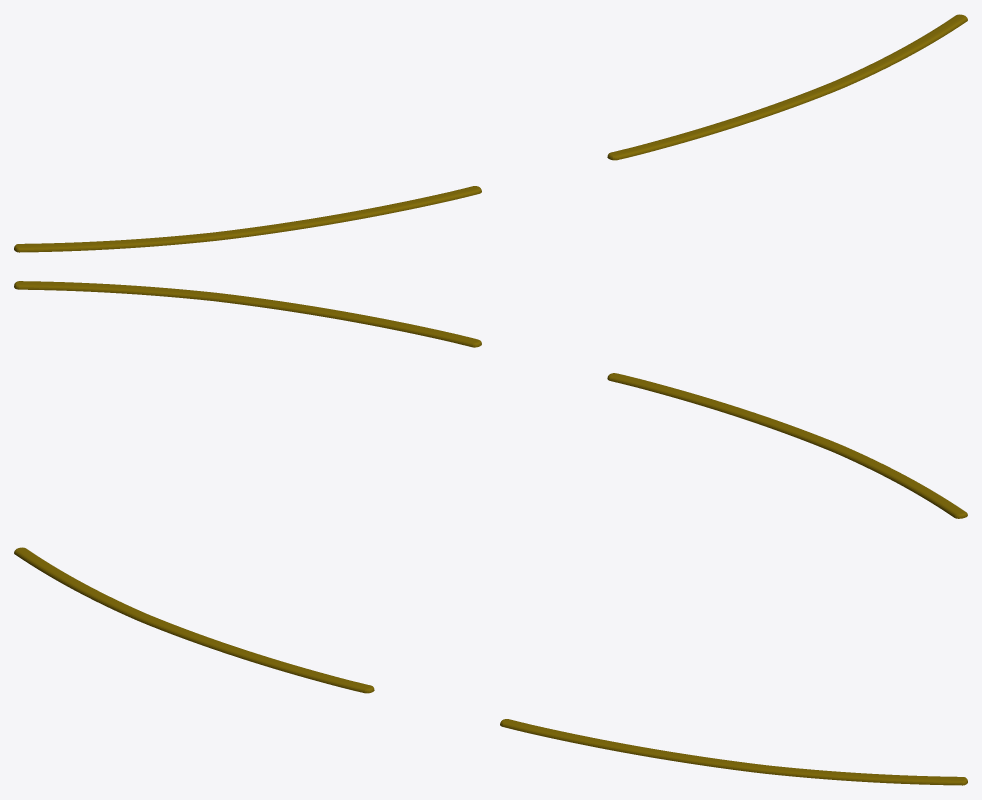
The model's file is board_indicator_player.fbx.
3 renders of one model, top to bottom at view 1: azimuth 30°, elevation 25°; view 2: azimuth 150°, elevation 25°; view 3: azimuth 330°, elevation 25°, orthographic.
Visible parts, largest first — view 1: board_indicator_player; view 2: board_indicator_player; view 3: board_indicator_player.
Part boxes in pixels (x1=…): board_indicator_player: x1=14, y1=14, x2=967, y2=252; board_indicator_player: x1=14, y1=281, x2=967, y2=518; board_indicator_player: x1=14, y1=547, x2=967, y2=785.
Bounding box in the file's own units: 70.44 × 0.2504 × 7.93.
